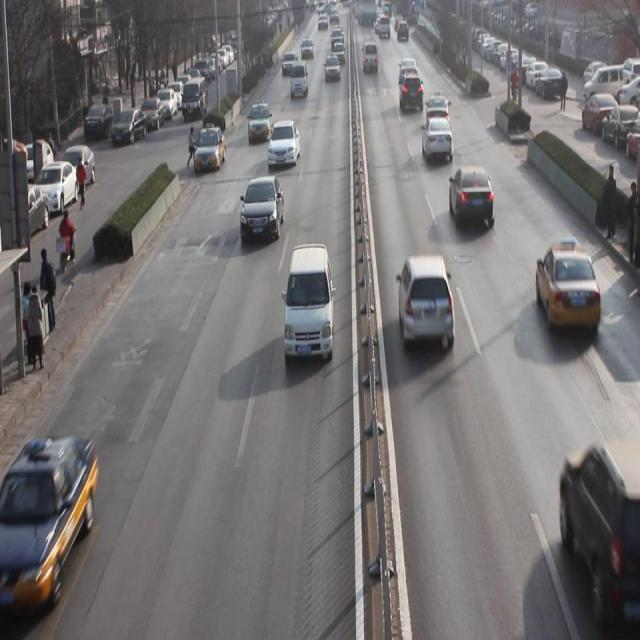car: (1, 443, 96, 604), (555, 442, 640, 620), (534, 243, 603, 340), (398, 255, 457, 358), (449, 168, 496, 234), (242, 178, 284, 245), (193, 127, 227, 175), (422, 119, 454, 168), (268, 123, 300, 170), (248, 104, 273, 144), (400, 73, 424, 112), (426, 92, 449, 130)
truck: (286, 246, 334, 363), (290, 64, 308, 102)
